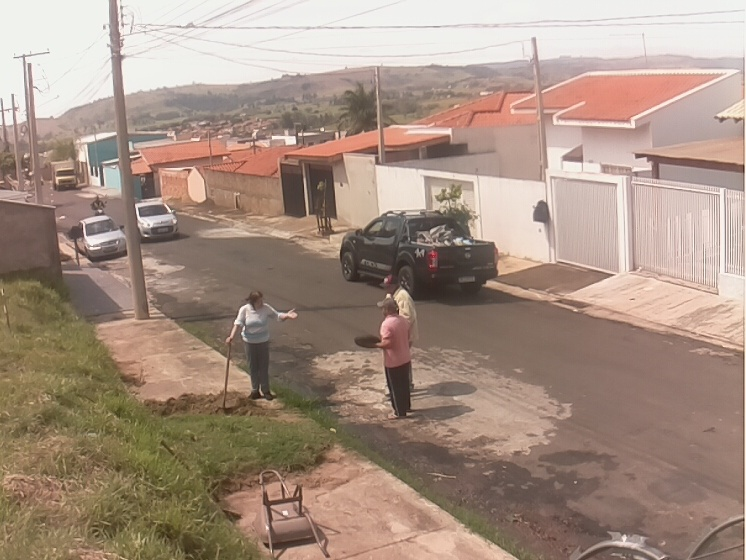person: (226, 291, 300, 400), (355, 299, 413, 419), (379, 274, 412, 314)
